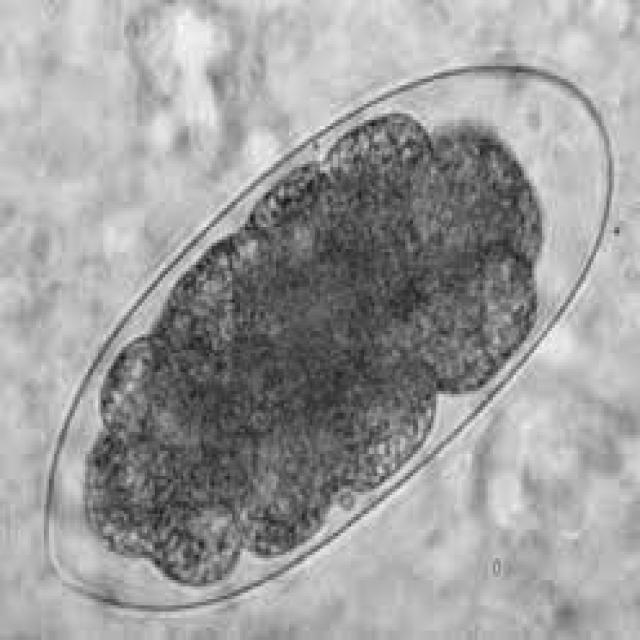Ancylostoma Spp: (28, 55, 622, 623)
